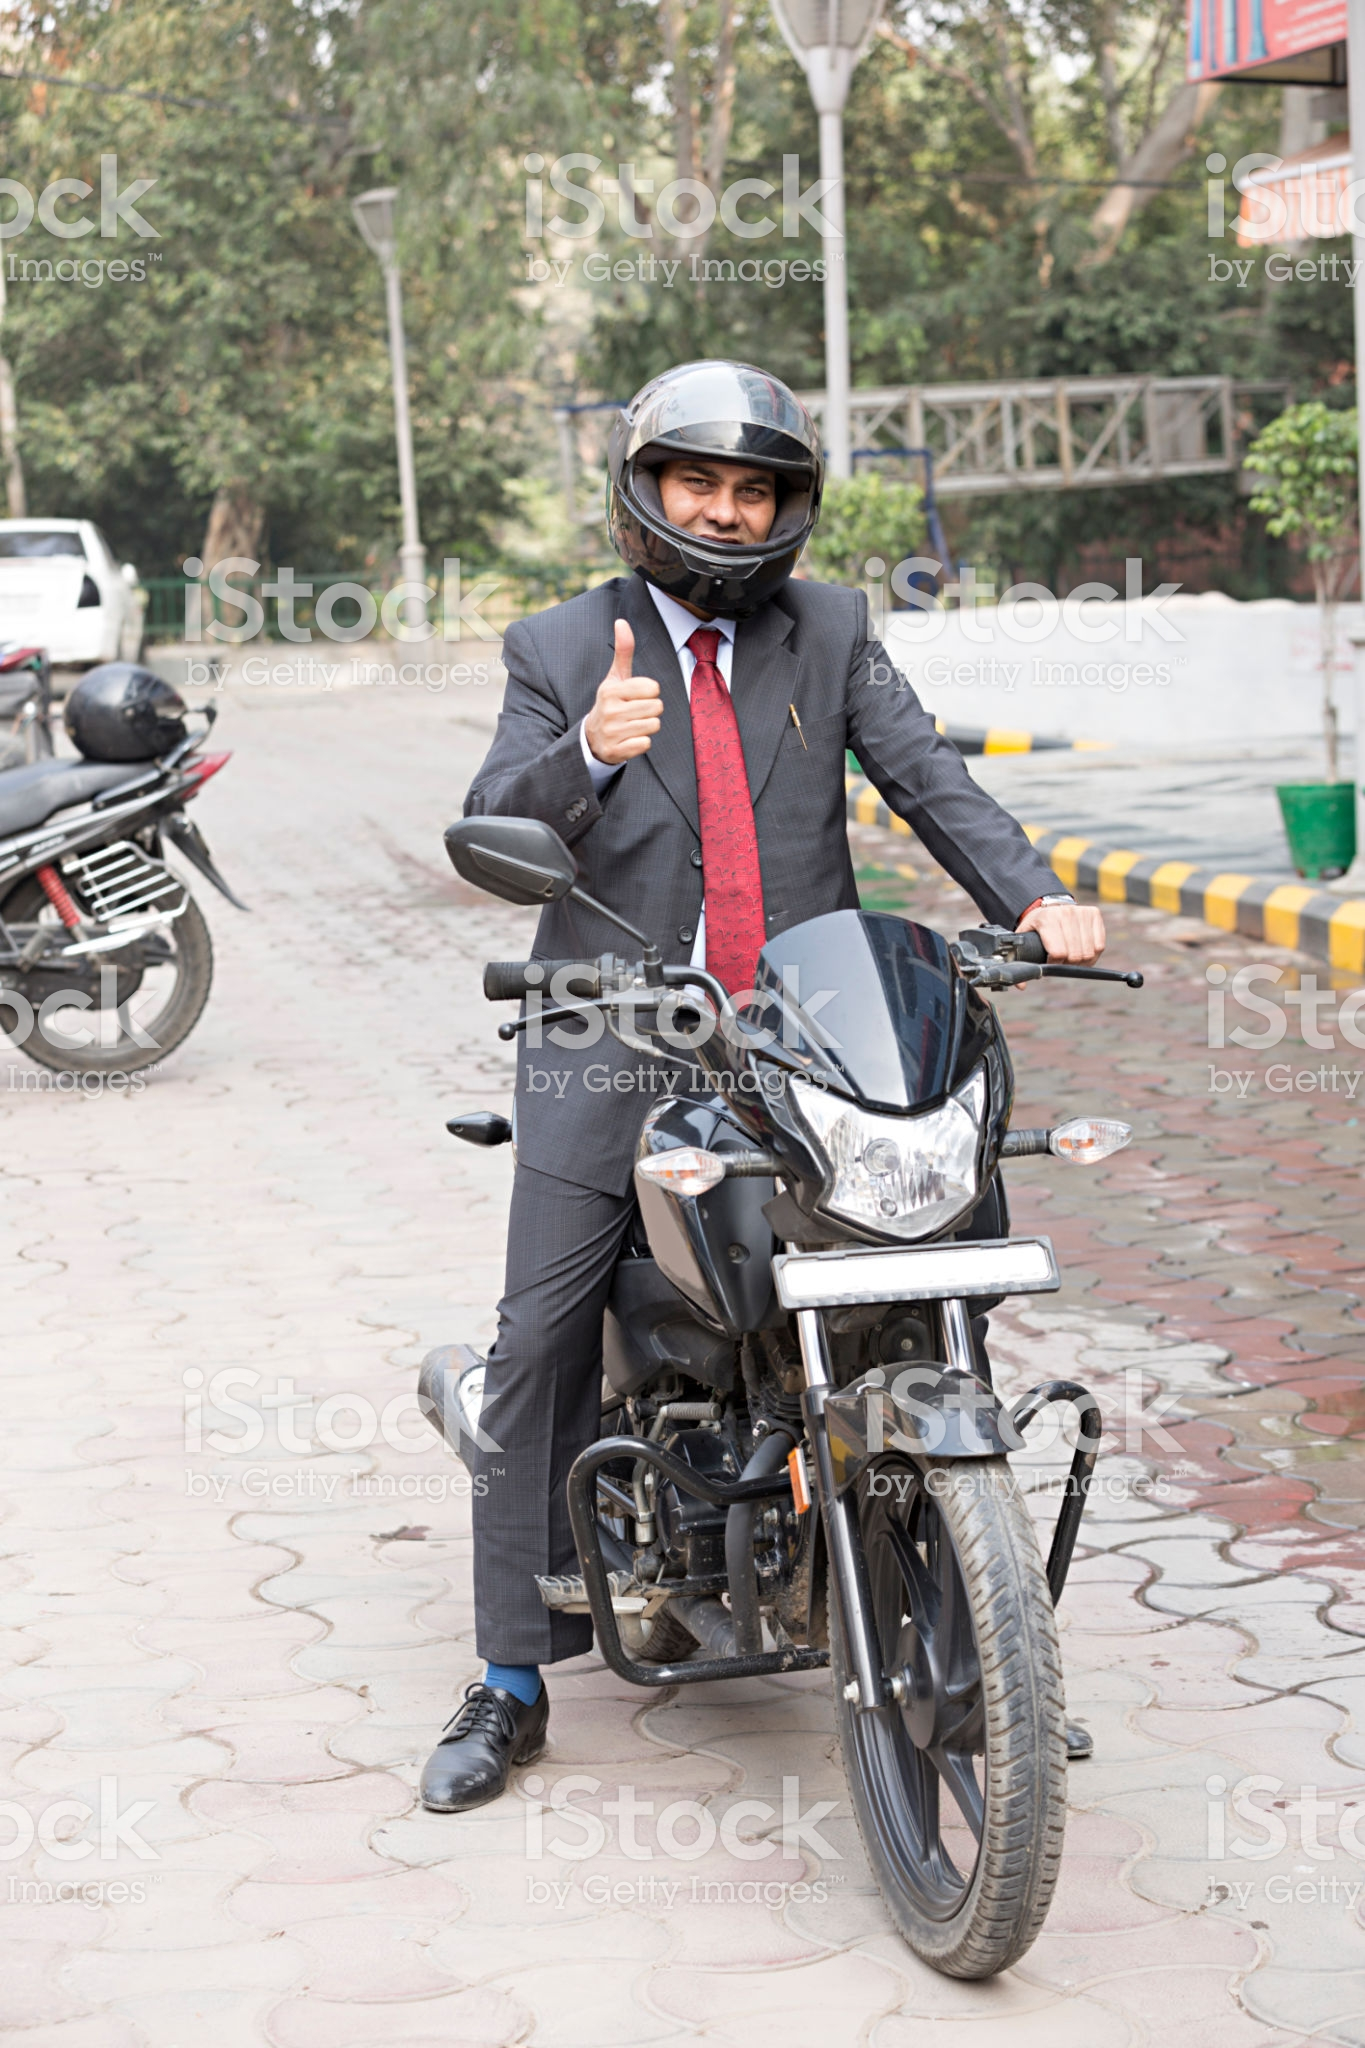helmet: (585, 368, 838, 611)
